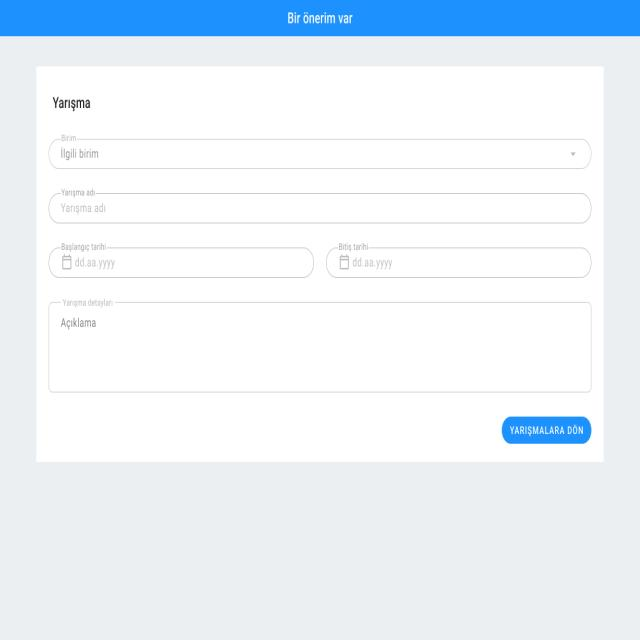QLabel: (286, 10, 352, 27), (508, 424, 584, 436), (49, 94, 92, 113)
VAppBar: (0, 1, 640, 36)
VBtn: (501, 415, 592, 445)
VCard: (36, 66, 604, 463)
VCombobox: (49, 133, 592, 170)
VInlineDatepicker: (48, 242, 314, 280), (326, 241, 591, 279)
VTextField: (49, 188, 591, 225)
VTextarea: (48, 296, 592, 393)
